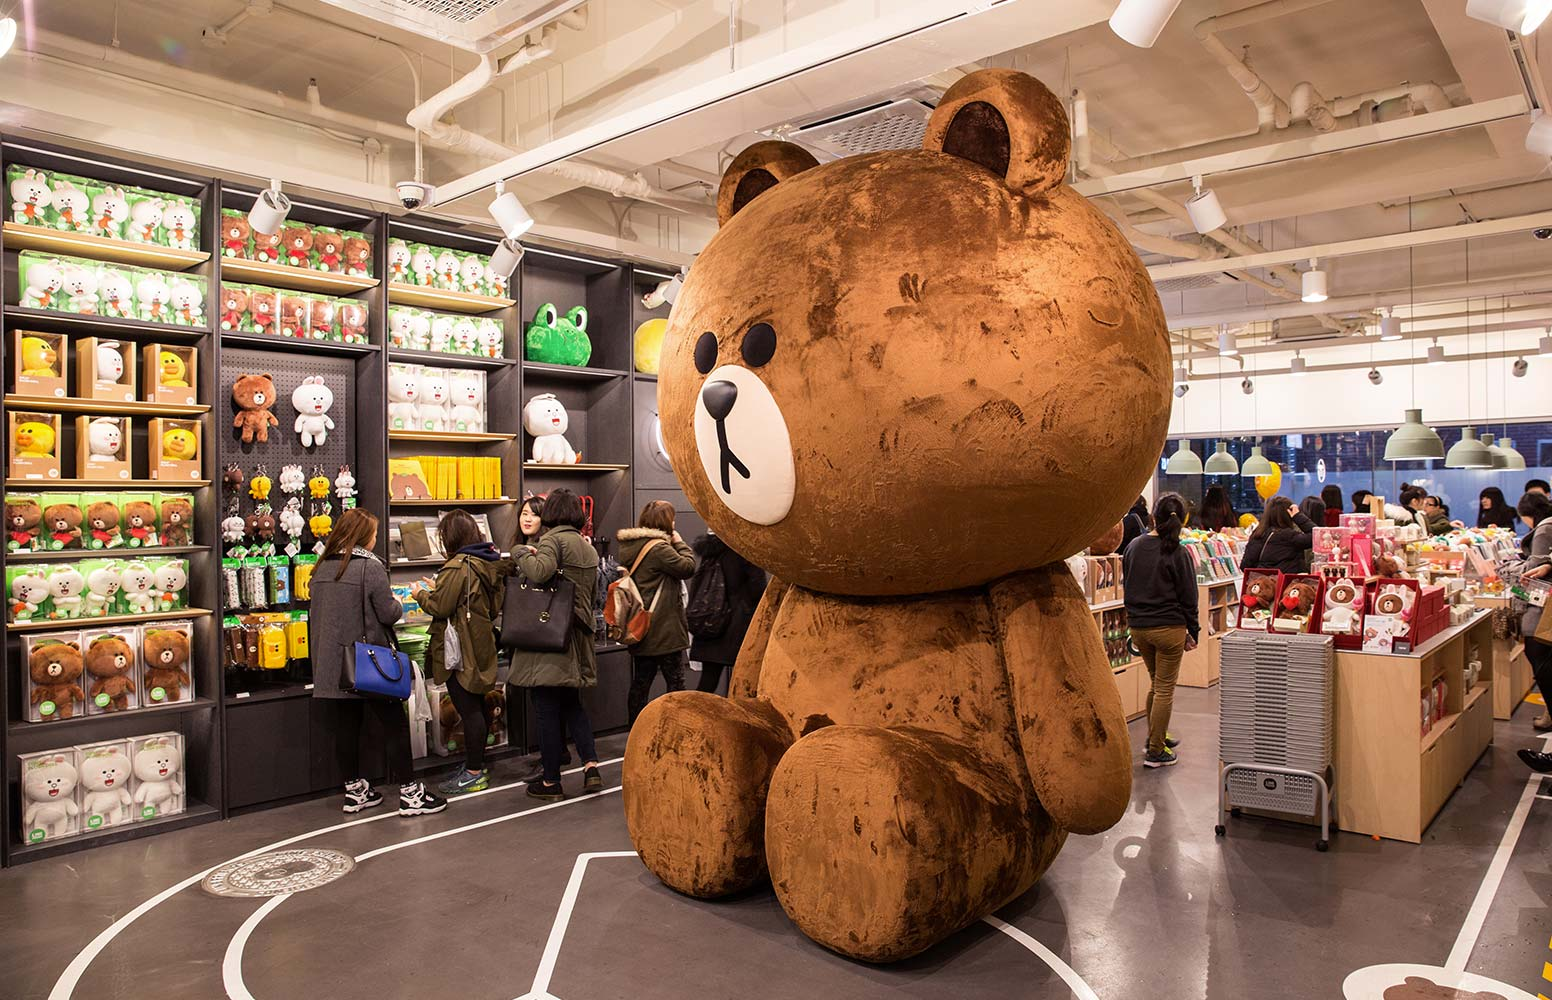line_brown: (632, 55, 1212, 600)
